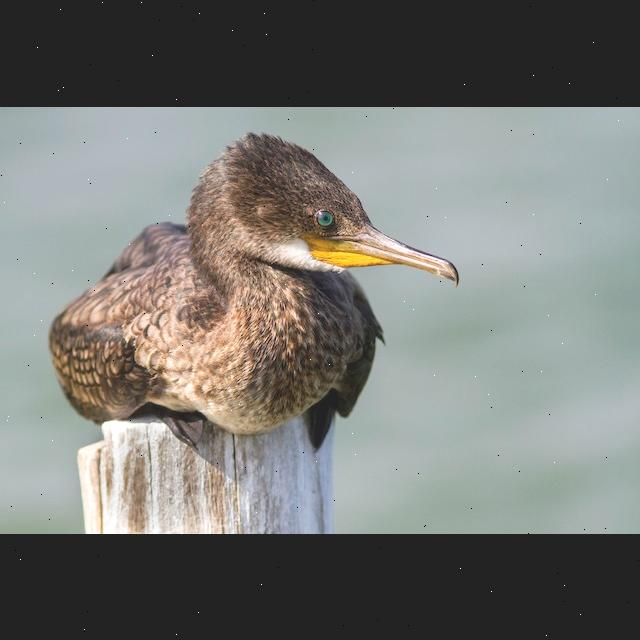cormorant: (43, 124, 467, 446)
